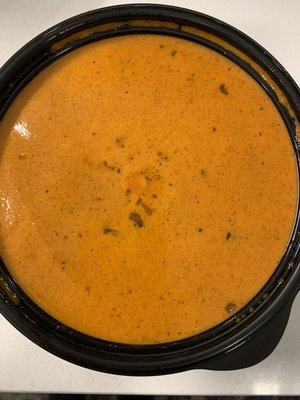sushi: (0, 3, 299, 365)
